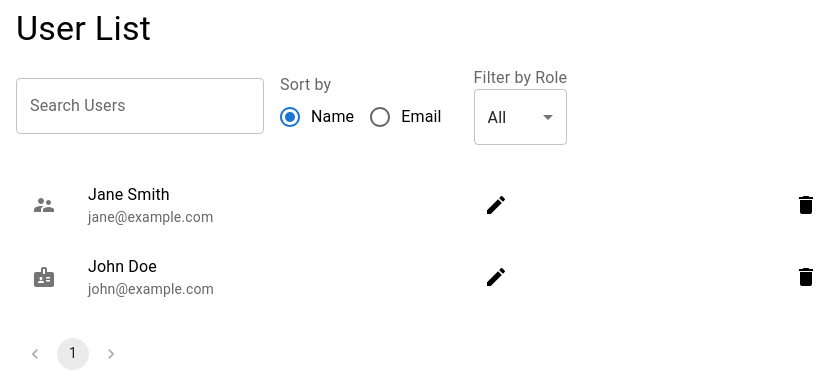
it: UserEmployeeListSchwer › filters users based on search term
Type "John" into the field labelled "Search Users" at (140, 106), box [16,78,264,134]
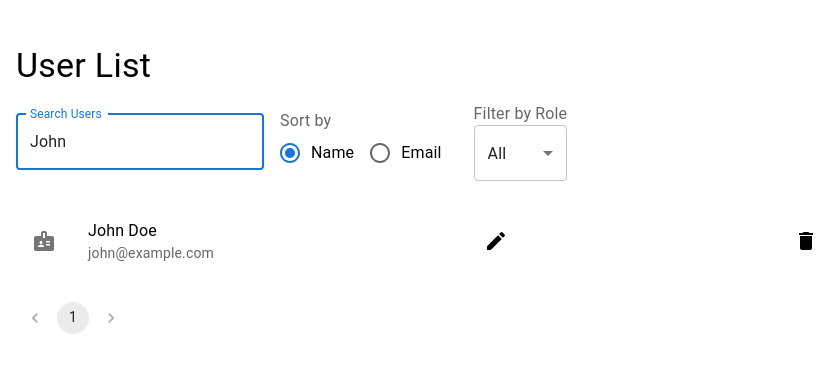
Check: the text "John Doe" is shown, box [88,222,157,240]
Check: the text "Jane Smith" is gone
